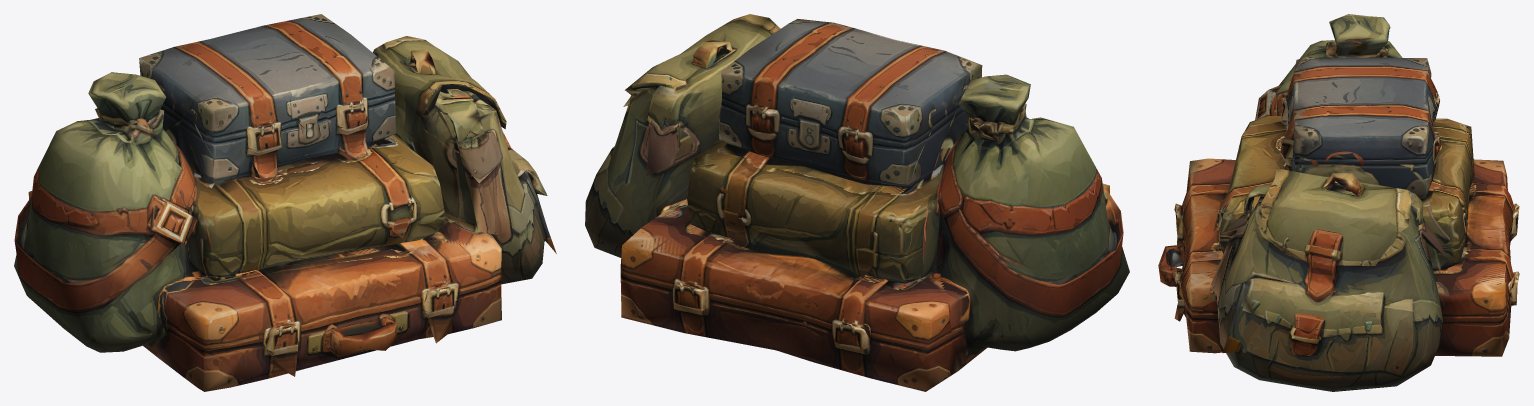
Rendered from Loot_LuggagePile_Closed.fbx.
3 renders of one model, left to right at view 1: azimuth 30°, elevation 25°; view 2: azimuth 150°, elevation 25°; view 3: azimuth 270°, elevation 25°, orthographic. The views are drawn at different scales.
Parts seen in each view (by area): view 1: texture_mapping; view 2: texture_mapping; view 3: texture_mapping.
Boxes of the visible parts, box(x1,y1,x2,y2) form: texture_mapping: box(14, 14, 556, 391); texture_mapping: box(585, 14, 1129, 391); texture_mapping: box(1158, 14, 1519, 391).
Bounding box in the file's own units: 0.9926 × 0.7489 × 0.5063.
1 material, 1 textured.
